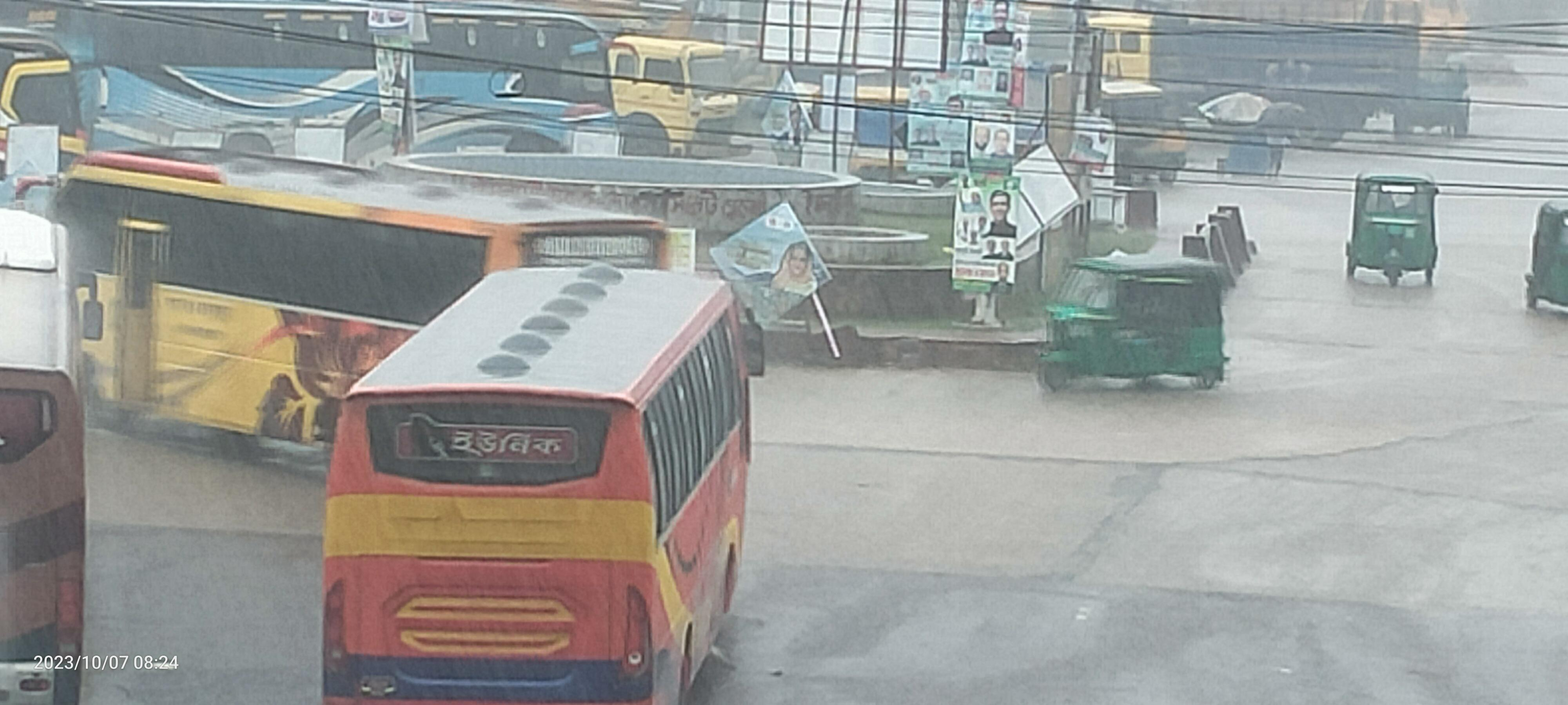Bus: (22, 128, 698, 484), (287, 262, 811, 705), (63, 0, 635, 199), (0, 349, 160, 705)
Truck: (1060, 0, 1432, 146), (602, 2, 754, 172)
